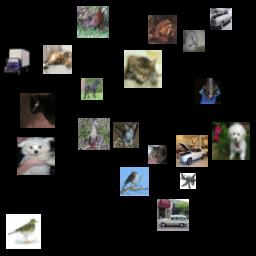airplane: (180, 173, 196, 189)
automobile: (176, 135, 208, 167), (157, 199, 189, 231), (210, 8, 232, 30)
bird: (6, 214, 41, 249), (78, 118, 110, 150), (120, 167, 149, 196), (195, 78, 221, 104)
cat: (124, 50, 162, 88), (20, 93, 55, 128), (43, 45, 72, 74), (113, 122, 139, 148), (183, 30, 205, 52), (148, 145, 167, 164)
deer: (77, 6, 109, 38)
dog: (17, 137, 55, 175), (212, 122, 250, 160)
frog: (148, 15, 177, 44)
truck: (2, 48, 31, 77)
